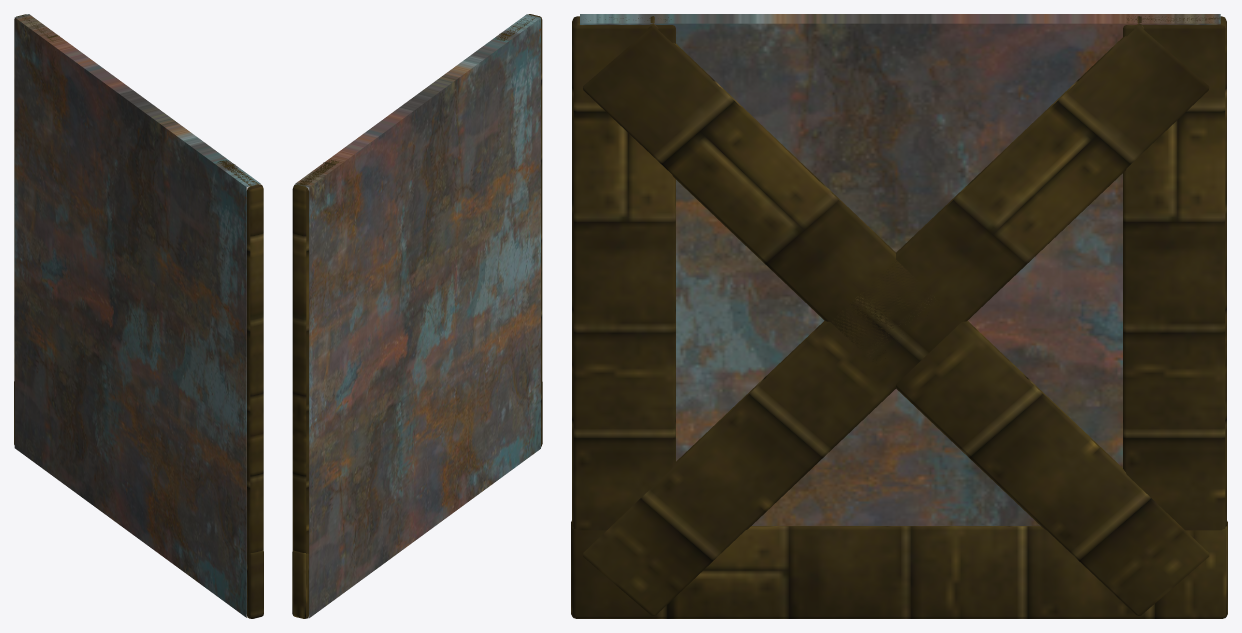
Rendered from wall_v4.fbx.
3 renders of one model, left to right at view 1: azimuth 30°, elevation 25°; view 2: azimuth 150°, elevation 25°; view 3: azimuth 270°, elevation 25°, orthographic. The views are drawn at different scales.
Parts seen in each view (by area): view 1: Plane.002, Stylized Wood Planks.004, Stylized Wood Planks.002, Stylized Wood Planks.003; view 2: Plane.002, Stylized Wood Planks.003, Stylized Wood Planks.002, Stylized Wood Planks.004; view 3: Plane.002, Stylized Wood Planks.006, Stylized Wood Planks.005, Stylized Wood Planks.002, Stylized Wood Planks.003, Stylized Wood Planks.004.
Part boxes in pixels (left/top/right/bottom): Plane.002: left=14, top=14, right=260, bottom=617; Stylized Wood Planks.004: left=217, top=160, right=263, bottom=614; Stylized Wood Planks.002: left=14, top=381, right=263, bottom=618; Stylized Wood Planks.003: left=14, top=14, right=56, bottom=381; Plane.002: left=294, top=14, right=540, bottom=618; Stylized Wood Planks.003: left=292, top=160, right=338, bottom=614; Stylized Wood Planks.002: left=292, top=381, right=542, bottom=618; Stylized Wood Planks.004: left=495, top=14, right=542, bottom=444; Plane.002: left=580, top=14, right=1220, bottom=525; Stylized Wood Planks.006: left=583, top=16, right=1209, bottom=615; Stylized Wood Planks.005: left=583, top=16, right=1209, bottom=615; Stylized Wood Planks.002: left=571, top=521, right=1227, bottom=618; Stylized Wood Planks.003: left=1123, top=16, right=1226, bottom=530; Stylized Wood Planks.004: left=572, top=16, right=675, bottom=530.
Size of the model in its own units: 7.95 by 201 by 200.
